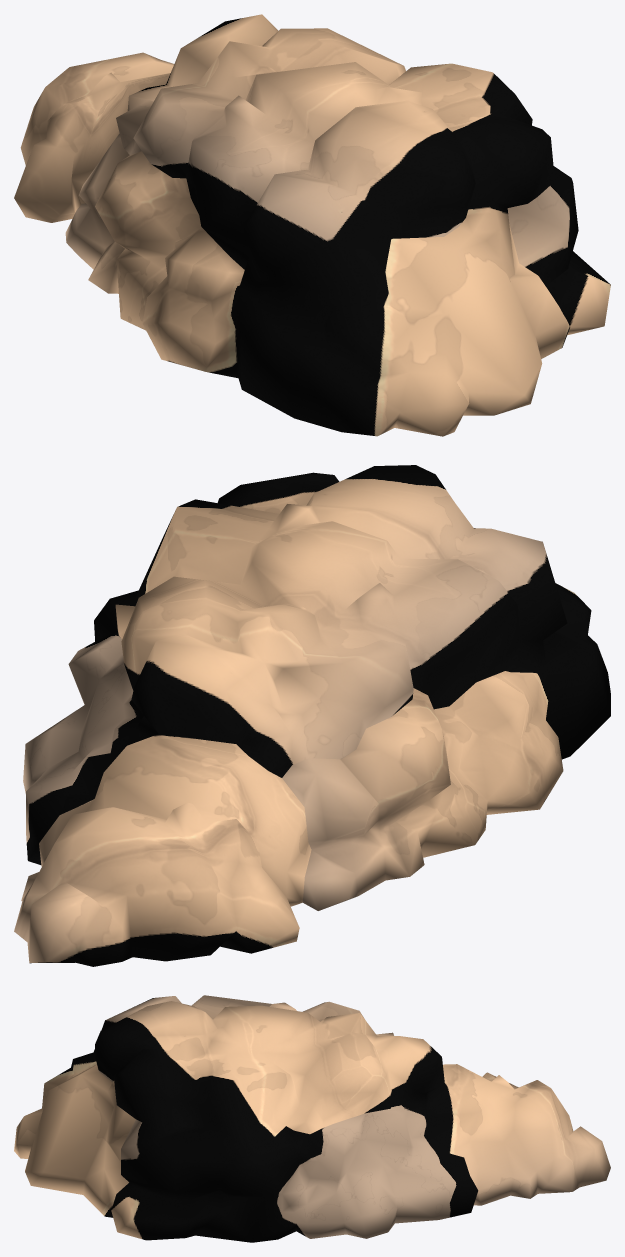
File: Rock_3.fbx
3 views of the same model, one above another, from view 1: azimuth 30°, elevation 25°; view 2: azimuth 150°, elevation 25°; view 3: azimuth 270°, elevation 25° (orthographic). The views are drawn at different scales.
Parts seen in each view (by area): view 1: Low; view 2: Low; view 3: Low.
Boxes of the visible parts, <box> form: Low: <box>14,14,610,436</box>; Low: <box>14,465,610,966</box>; Low: <box>14,995,610,1242</box>.
Size of the model in its own units: 197 by 105 by 359.
